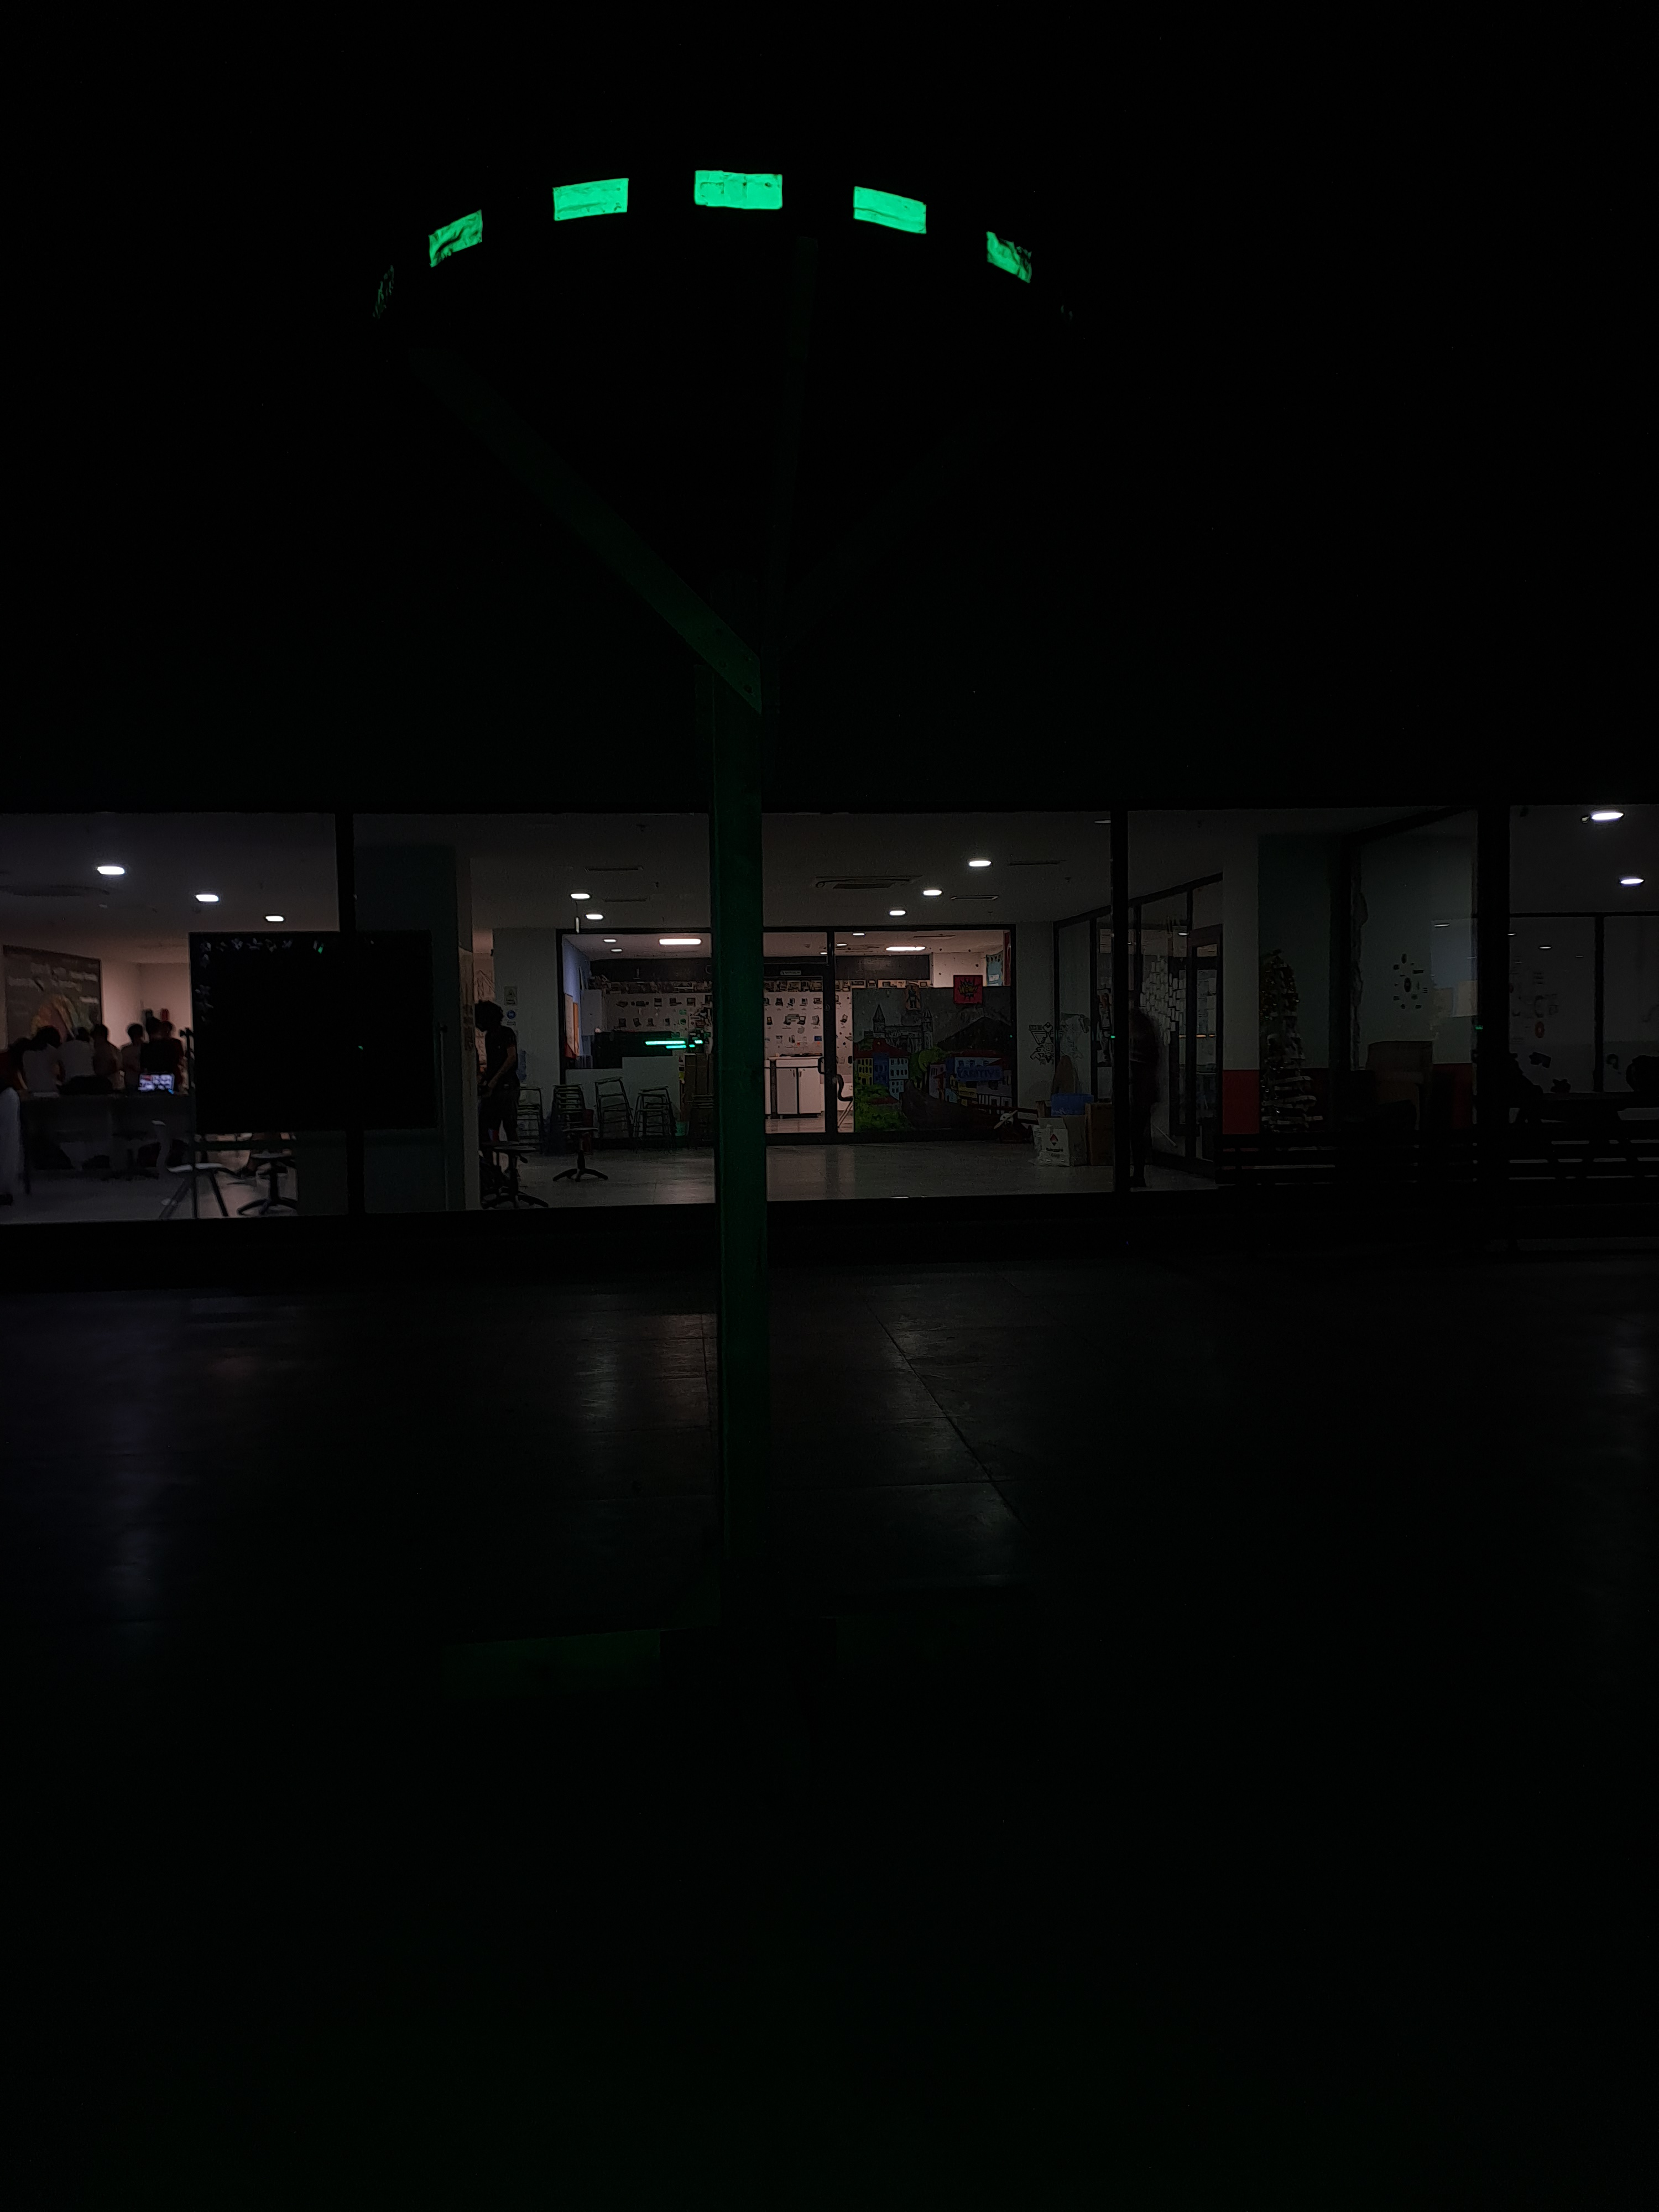hoop: (427, 165, 1035, 286)
